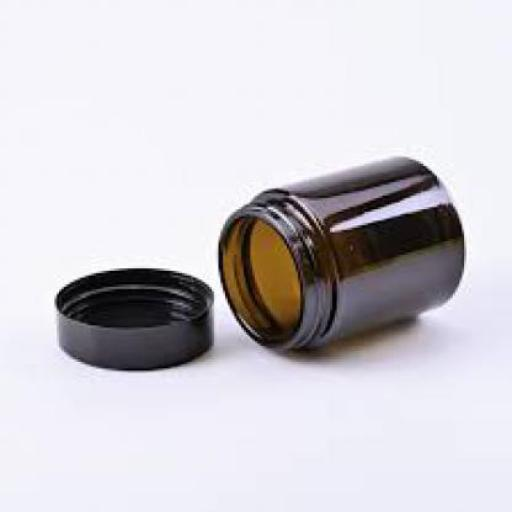glass: (216, 155, 465, 350)
plastic: (54, 267, 214, 371)
